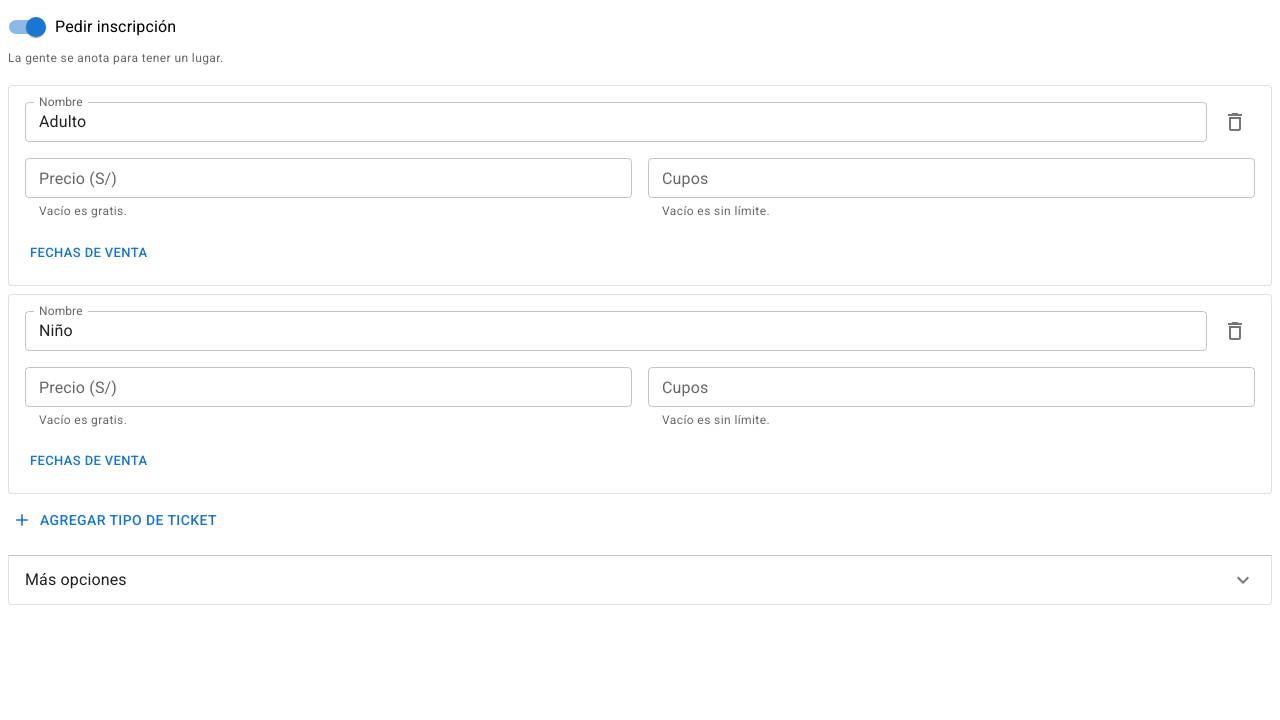
Test: RegistrationFields › in the list each ticket keeps its sales dates folded until asked for
The image size is (1280, 720).
Expected: the field labelled "Venta desde" is not shown
Click the 2nd button "Fechas de venta": click(89, 462) [25, 446, 152, 477]
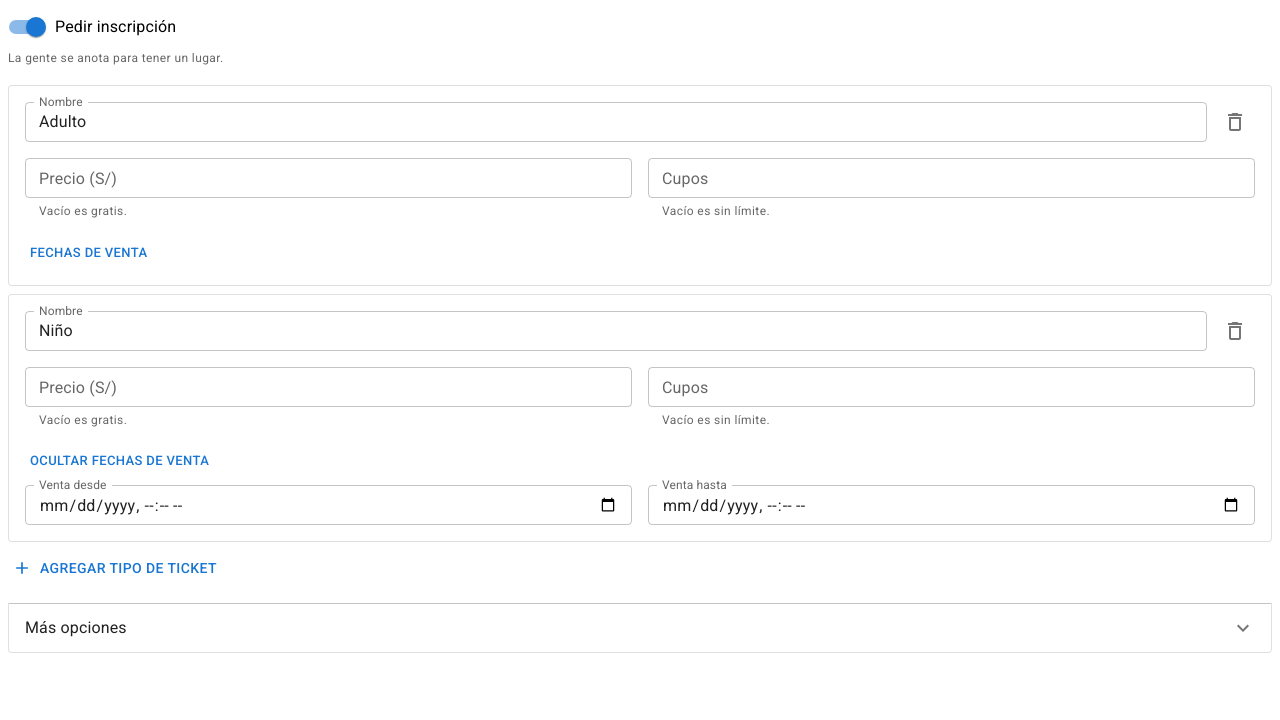
Result: the field labelled "Venta desde" is shown at [25, 485, 632, 525]
